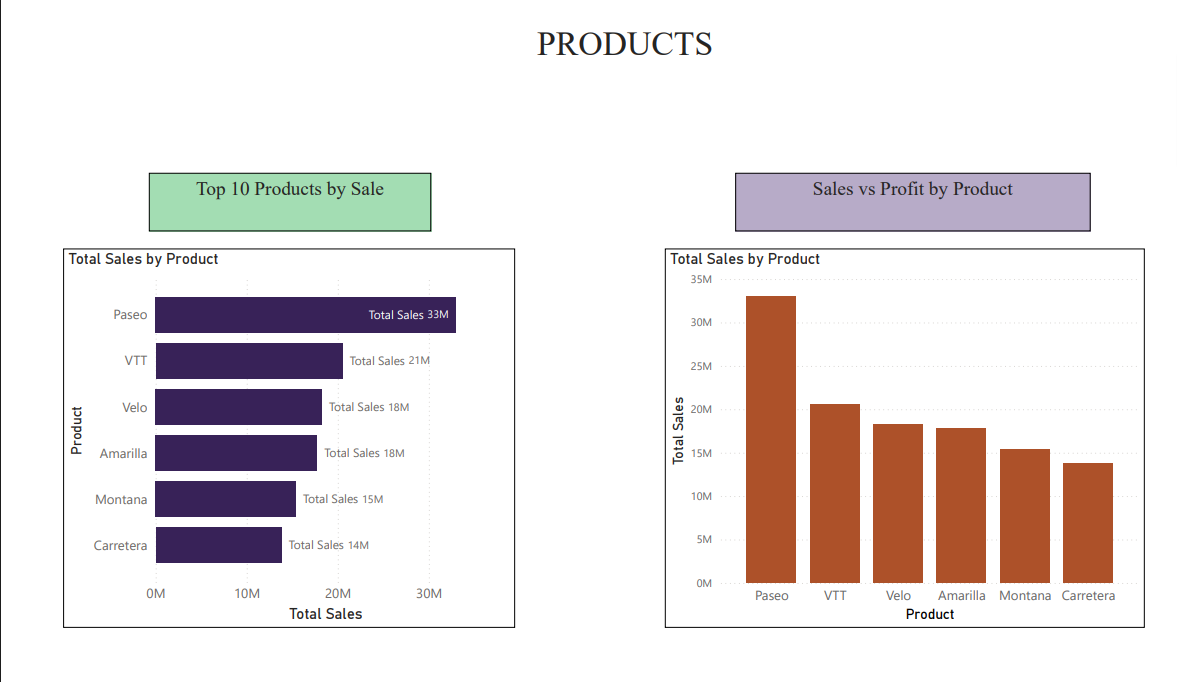

Layout of this report page (visuals, bound fields, positions):
{"tool":"powerbi","page":{"name":"Products","canvas":[1280,720],"ordinal":1},"visuals":[{"type":"textbox","box":[314.3,0,709.2,67.3],"z":0},{"type":"clusteredBarChart","fields":{"Category":["financials.Product"],"Y":["Dim Date.Total Sales"]},"box":[46.5,254.3,500.1,420.7],"z":1000},{"type":"textbox","box":[140.6,170,313,64.8],"z":2000},{"type":"clusteredColumnChart","fields":{"Category":["financials.Product"],"Y":["Dim Date.Total Sales"]},"box":[712.9,254.3,531.9,420.7],"z":3000},{"type":"textbox","box":[791.2,170,393.8,64.8],"z":4000}]}

Visuals, with their boxes in screenshot pixels (x1, y1, x2, y2), scaled from the page's 1280x720 canvas onto the 1193x682 screenshot:
textbox: [x1=293, y1=0, x2=954, y2=64]
clusteredBarChart - financials.Product x Dim Date.Total Sales: [x1=43, y1=241, x2=509, y2=639]
textbox: [x1=131, y1=161, x2=423, y2=222]
clusteredColumnChart - financials.Product x Dim Date.Total Sales: [x1=664, y1=241, x2=1160, y2=639]
textbox: [x1=737, y1=161, x2=1104, y2=222]
